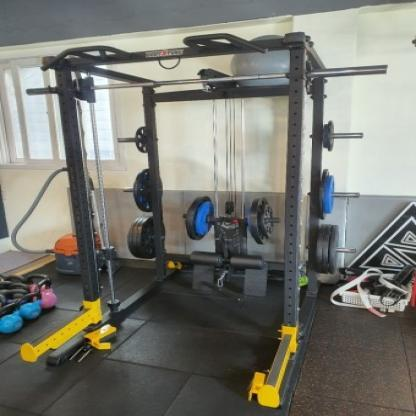smith machine: (20, 32, 339, 409)
